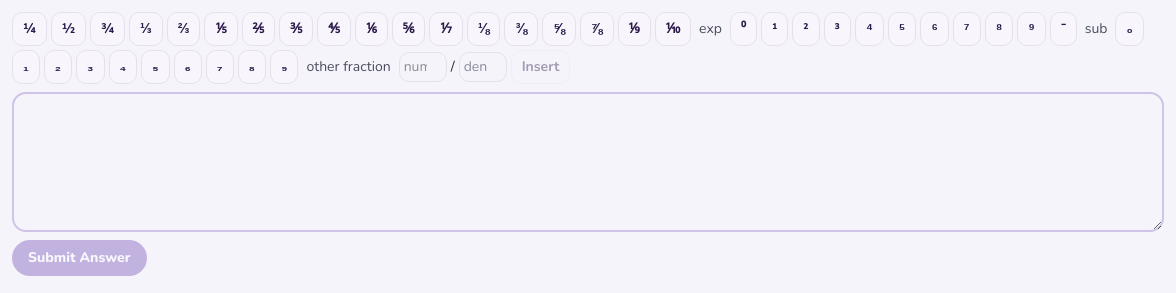
it: FreeTextAnswerInput notation entry › inserts a precomposed fraction into the textarea
What coordinates should you click on to do the following:
click the button with test id "notation-fraction-½"
I would click on:
 (69, 29)
Its box is top-left (51, 12), bottom-right (86, 46).
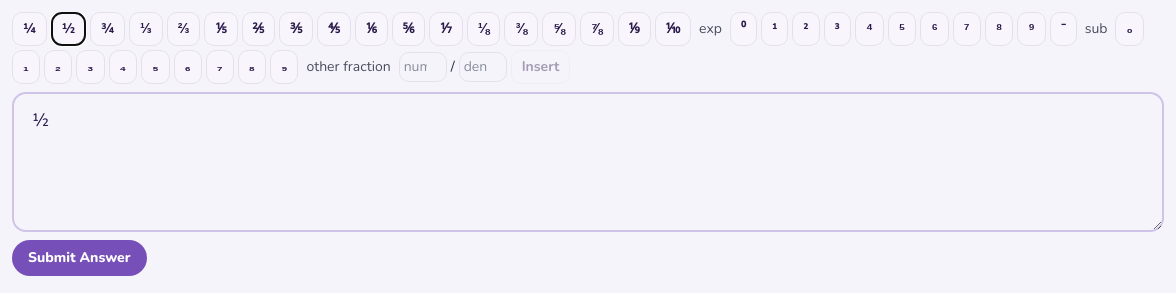
Now the text box holds "½", box top-left (12, 92), bottom-right (1164, 232)
